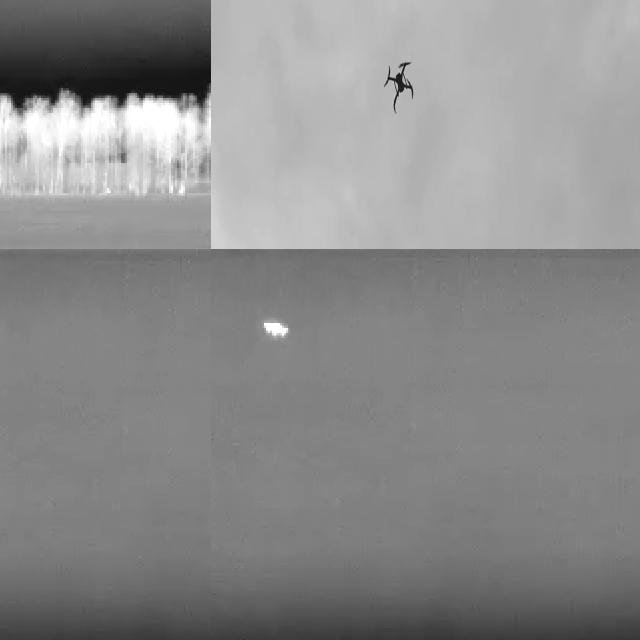1: (264, 316, 300, 346), (0, 313, 11, 340)
drone: (381, 55, 418, 114)
